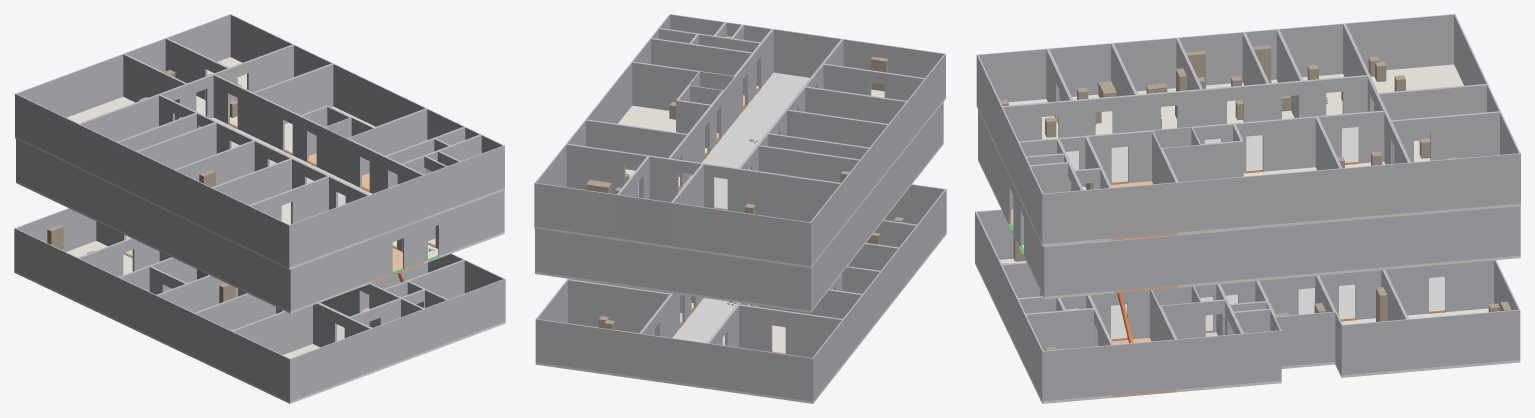
3 renders of one model, left to right at view 1: azimuth 30°, elevation 25°; view 2: azimuth 150°, elevation 25°; view 3: azimuth 270°, elevation 25°, orthographic. The views are drawn at different scales.
Parts seen in each view (by area): view 1: Walls F1, Walls F-2, Walls F0, 116 [S008], 106 [S011], K07 [S010], K01/ K02 [S022]; view 2: Walls F1, Walls F-2, Walls F0, 116 [S008], K22 [S008], 110 [S009], 106 [S011], K06 [S009], E06A [S014], K07 [S010], Shelf 101; view 3: Walls F1, Walls F-2, Walls F0, K22 [S008], 116 [S008], 106 [S011], 110 [S009], K08 [S011], 105a [S014].
Part boxes in pixels (left/top/right/bottom): Walls F1: left=15, top=14, right=504, bottom=267; Walls F-2: left=14, top=208, right=505, bottom=401; Walls F0: left=16, top=139, right=504, bottom=311; 116 [S008]: left=200, top=117, right=424, bottom=239; 106 [S011]: left=15, top=96, right=134, bottom=168; K07 [S010]: left=14, top=241, right=132, bottom=302; K01/ K02 [S022]: left=231, top=344, right=371, bottom=403; Walls F1: left=534, top=14, right=945, bottom=265; Walls F-2: left=535, top=184, right=946, bottom=401; Walls F0: left=535, top=102, right=943, bottom=310; 116 [S008]: left=678, top=72, right=814, bottom=209; K22 [S008]: left=640, top=298, right=749, bottom=388; 110 [S009]: left=618, top=105, right=707, bottom=153; 106 [S011]: left=671, top=227, right=842, bottom=268; K06 [S009]: left=772, top=325, right=863, bottom=364; E06A [S014]: left=699, top=272, right=841, bottom=312; K07 [S010]: left=707, top=363, right=843, bottom=403; Shelf 101: left=870, top=56, right=888, bottom=91; Walls F1: left=976, top=14, right=1520, bottom=243; Walls F-2: left=975, top=209, right=1520, bottom=401; Walls F0: left=978, top=110, right=1520, bottom=296; K22 [S008]: left=1066, top=276, right=1445, bottom=339; 116 [S008]: left=1001, top=127, right=1358, bottom=193; 106 [S011]: left=1371, top=64, right=1463, bottom=110; 110 [S009]: left=1177, top=167, right=1341, bottom=234; K08 [S011]: left=1407, top=308, right=1520, bottom=371; 105a [S014]: left=1302, top=74, right=1344, bottom=115.
Bounding box in the file's own units: 22.32 × 12 × 28.36.
